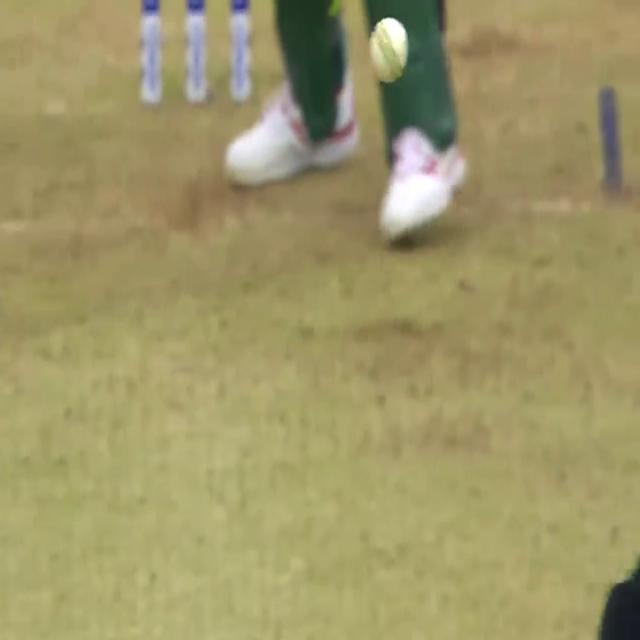ball: (367, 12, 411, 84)
